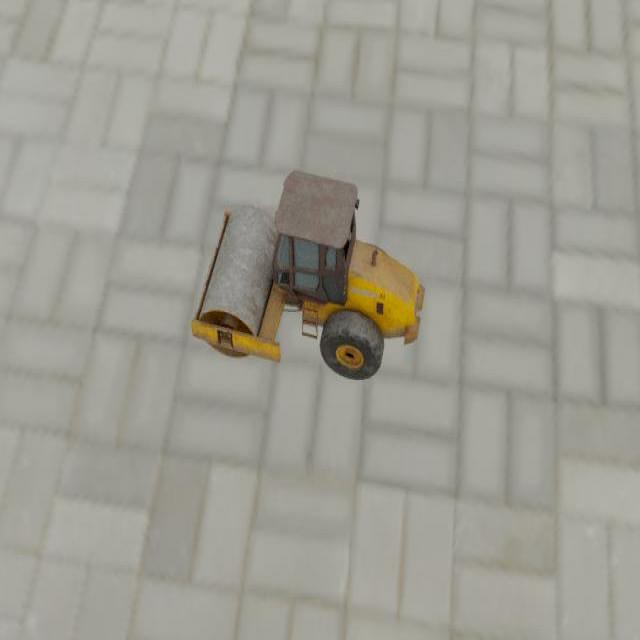Roller: (190, 168, 425, 380)
